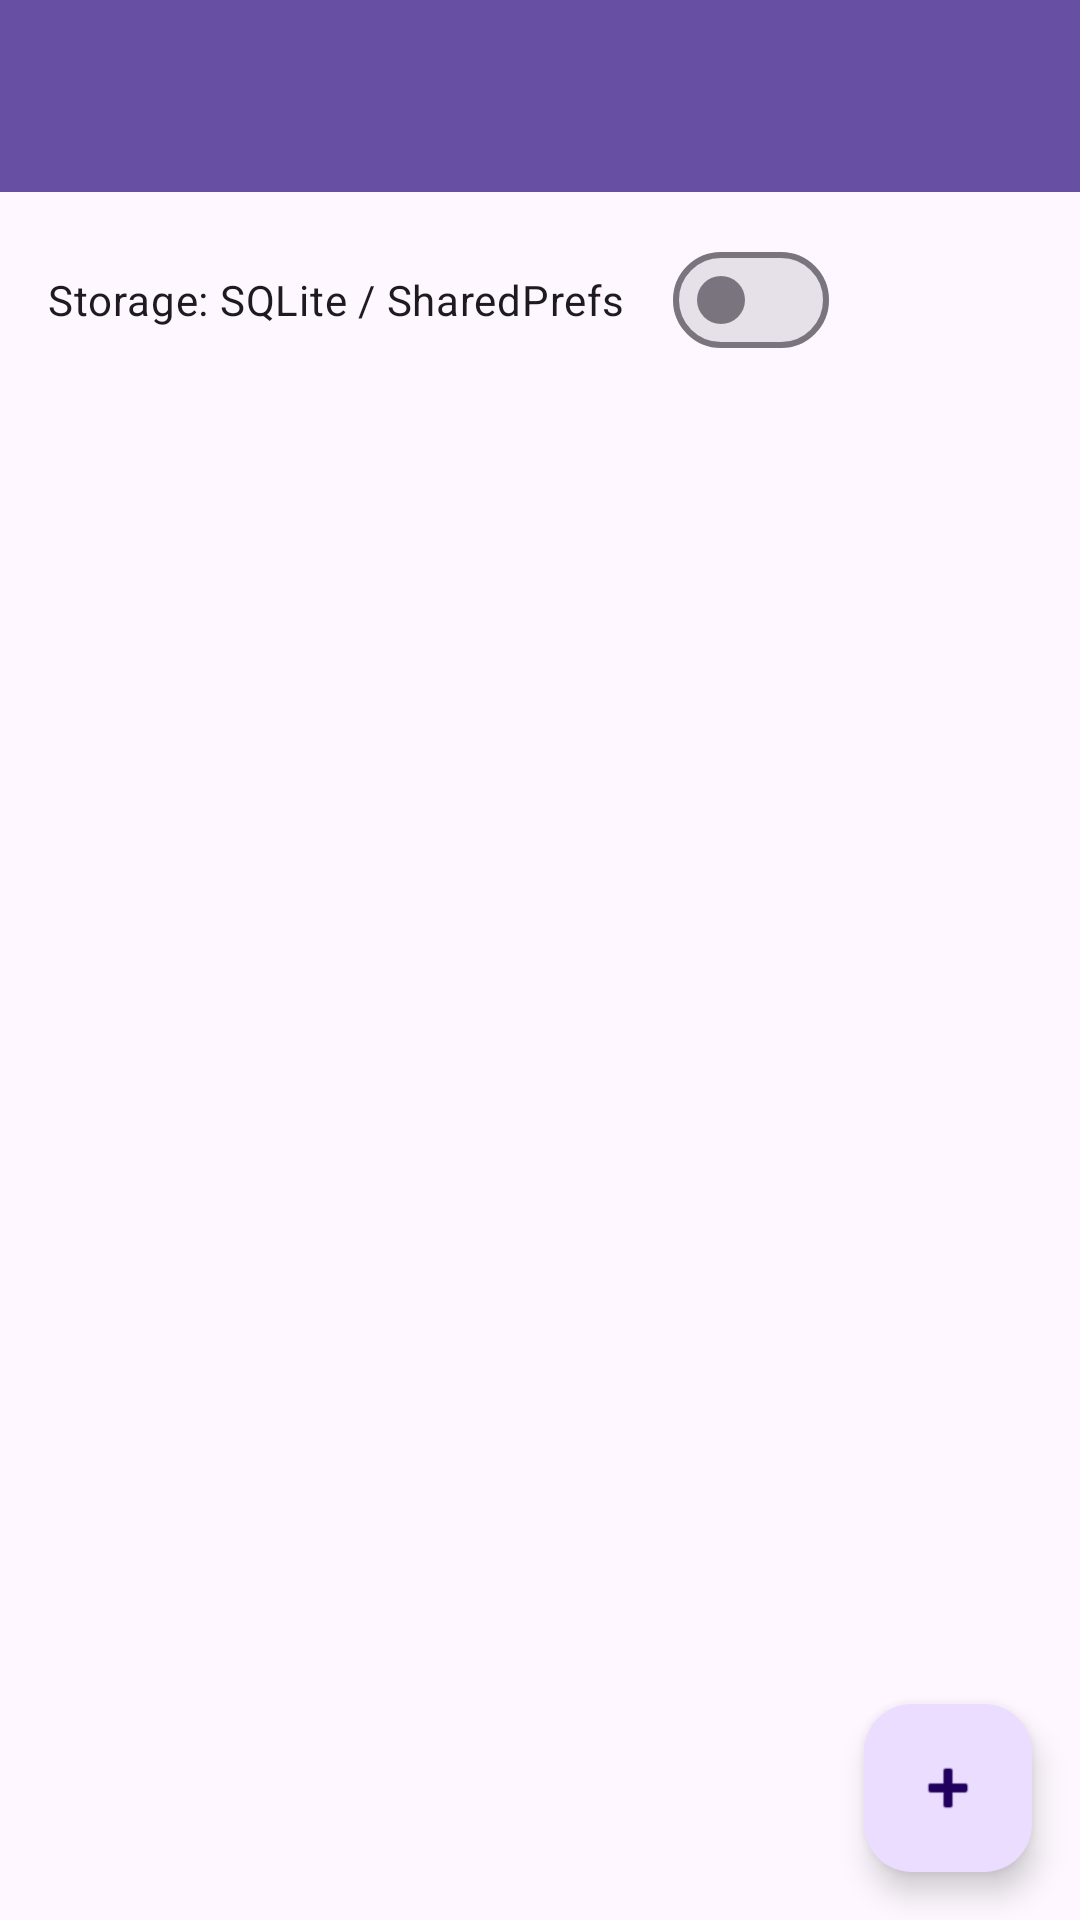

Where icons sit on this 1080px×1920px app screen, as (x1, y1, x2, y2):
Add Task: (864, 1704, 1032, 1872)
